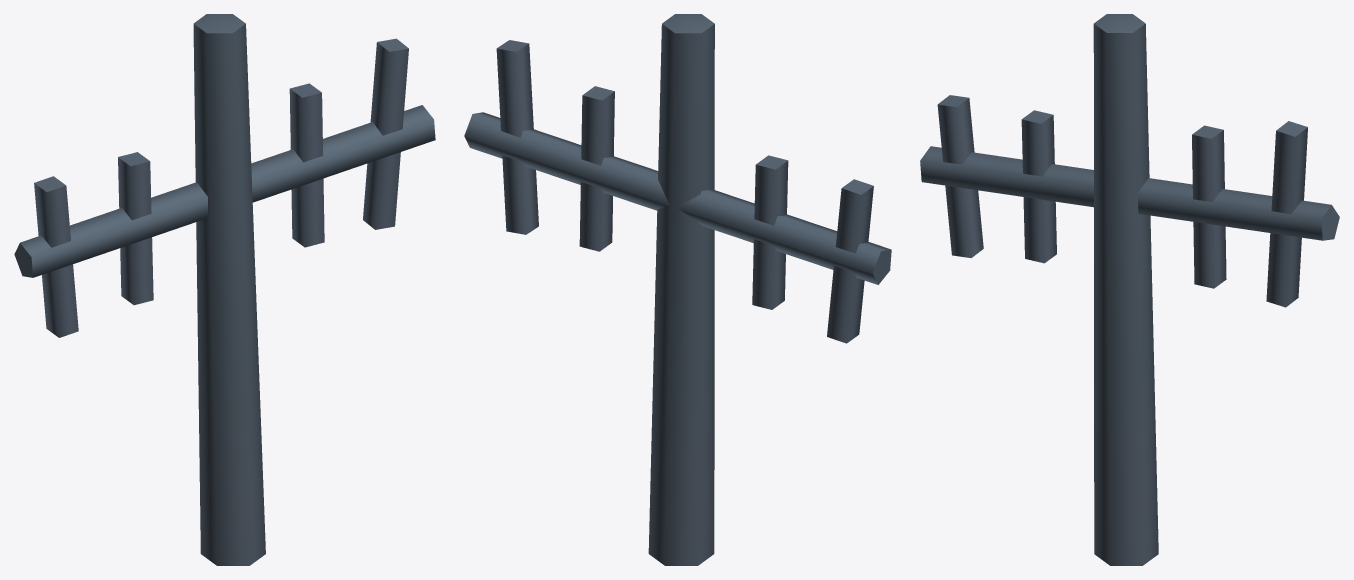
File: Antene_1_B_2.fbx
The picture shows the model from 3 angles, left to right: view 1: azimuth 30°, elevation 25°; view 2: azimuth 150°, elevation 25°; view 3: azimuth 330°, elevation 25°; orthographic projection.
Visible parts, largest first — view 1: Antene_1_B_2; view 2: Antene_1_B_2; view 3: Antene_1_B_2.
Boxes of the visible parts, bbox=[...] form: Antene_1_B_2: bbox=[14, 14, 435, 565]; Antene_1_B_2: bbox=[464, 14, 891, 565]; Antene_1_B_2: bbox=[920, 14, 1339, 565].
Bounding box in the file's own units: 58.81 × 73.94 × 8.24.
